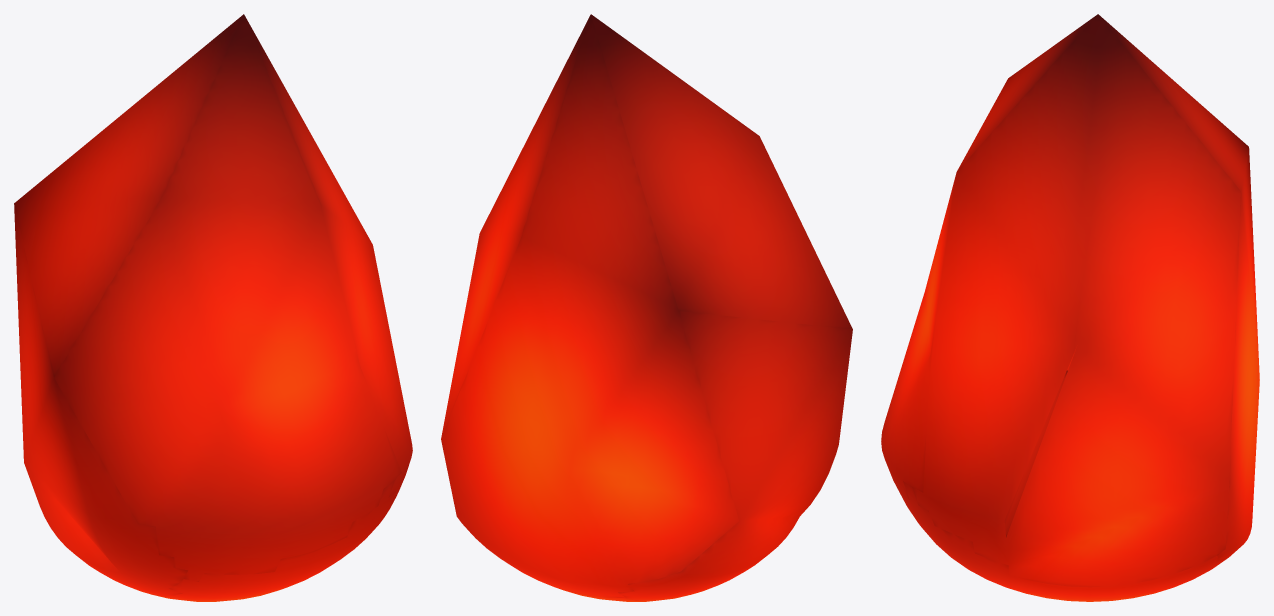
Rendered from fireFrame3.fbx.
The picture shows the model from 3 angles, left to right: view 1: azimuth 30°, elevation 25°; view 2: azimuth 150°, elevation 25°; view 3: azimuth 270°, elevation 25°; orthographic projection. The views are drawn at different scales.
Parts seen in each view (by area): view 1: fireFrame3_Baked; view 2: fireFrame3_Baked; view 3: fireFrame3_Baked.
Boxes of the visible parts, box(x1,y1,x2,y2) form: fireFrame3_Baked: box(14, 14, 412, 601); fireFrame3_Baked: box(441, 14, 852, 601); fireFrame3_Baked: box(881, 14, 1259, 601).
Bounding box in the file's own units: 151 × 231 × 135.
